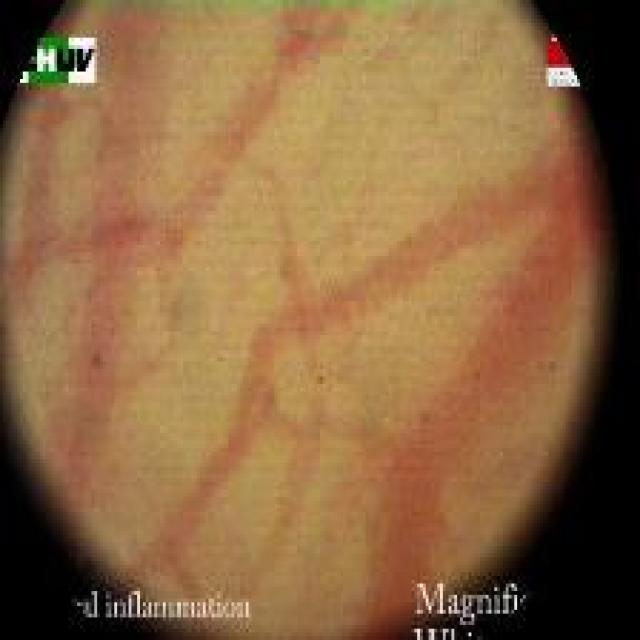color misalignment: (411, 578, 530, 638), (72, 585, 251, 622), (18, 33, 98, 87), (540, 32, 583, 94), (88, 352, 104, 368), (312, 371, 328, 386), (546, 358, 561, 373)
